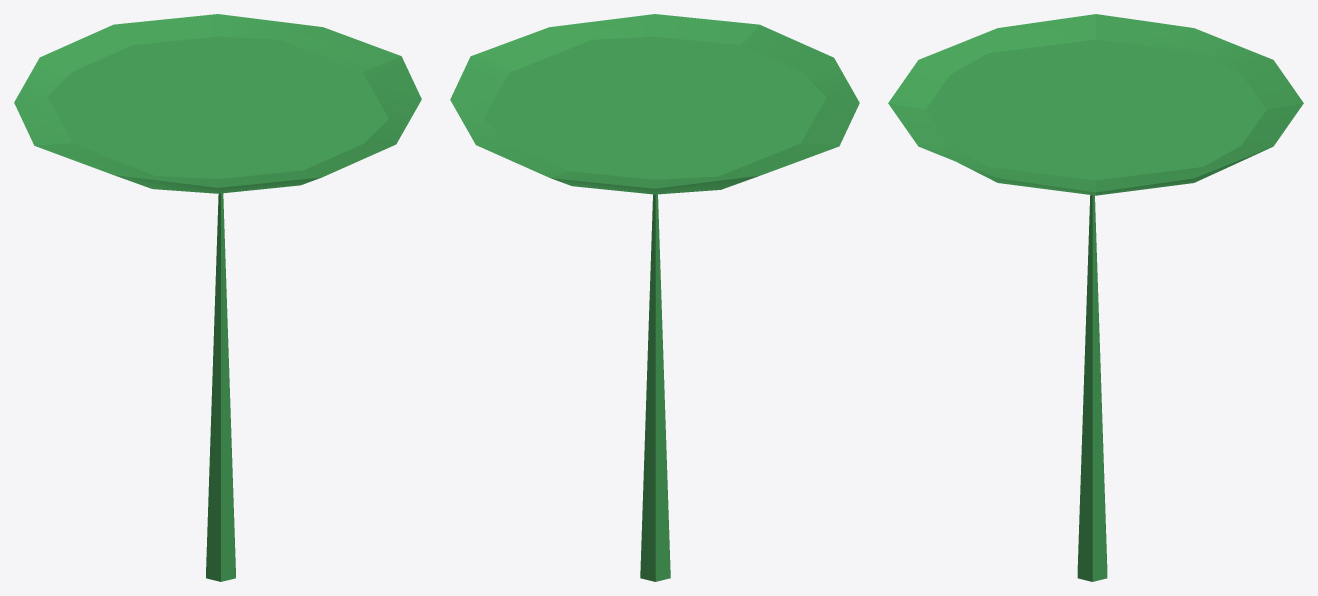
File: Plate.fbx
3 renders of one model, left to right at view 1: azimuth 30°, elevation 25°; view 2: azimuth 150°, elevation 25°; view 3: azimuth 270°, elevation 25°, orthographic.
Parts seen in each view (by area): view 1: polySurface128; view 2: polySurface128; view 3: polySurface128.
Boxes of the visible parts, x1,y1,x2,y2 form: polySurface128: [14, 14, 421, 581]; polySurface128: [450, 14, 859, 581]; polySurface128: [888, 14, 1303, 581].
Bounding box in the file's own units: 369 × 454 × 363.
